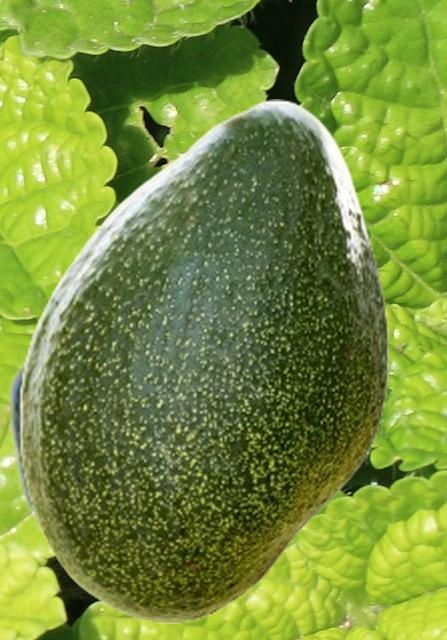avocado: (18, 99, 387, 622), (6, 341, 51, 553)
